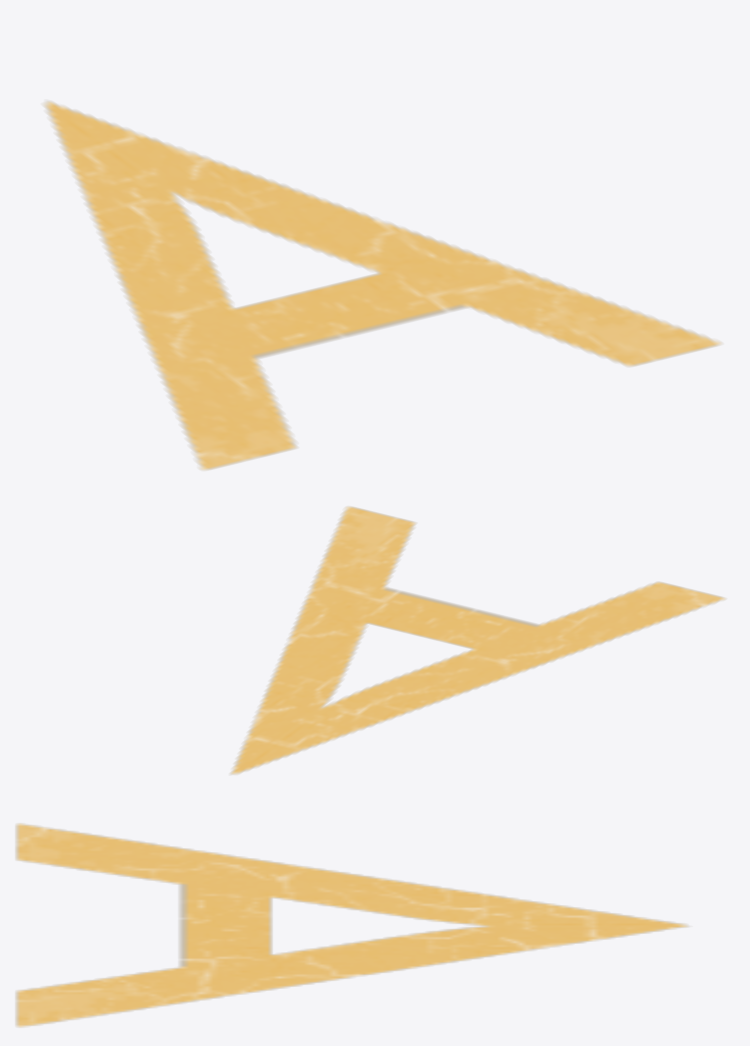
Rendered from A_yellow.gltf.
3 views of the same model, one above another, from view 1: azimuth 30°, elevation 25°; view 2: azimuth 150°, elevation 25°; view 3: azimuth 270°, elevation 25° (orthographic). The views are drawn at different scales.
Parts seen in each view (by area): view 1: A_yellow; view 2: A_yellow; view 3: A_yellow.
Part boxes in pixels (x1,y1,x2,y2): A_yellow: (44, 101, 720, 469); A_yellow: (231, 506, 724, 774); A_yellow: (16, 823, 687, 1027).
Size of the model in its own units: 1.32 by 0 by 1.89.
